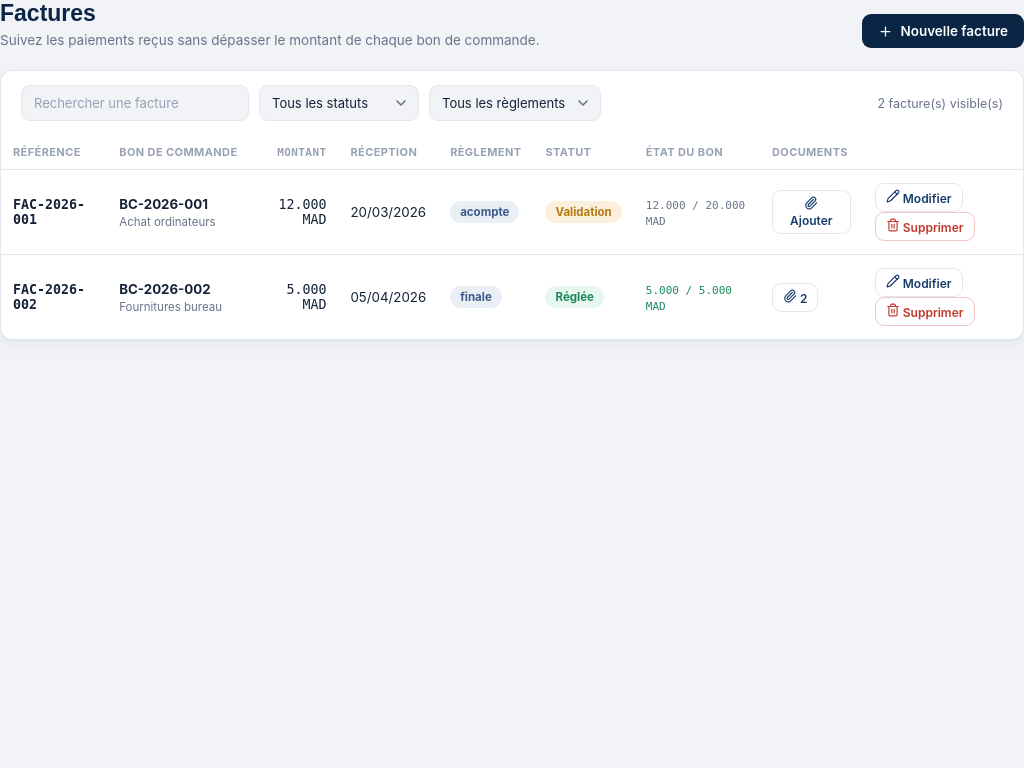
it: Factures › affiche l'erreur de validation (422) sur le champ bon de commande
Check: the text "FAC-2026-001" is shown, box [13,197,85,227]
Click the button "Nouvelle facture" at point(943, 31), box [862,14,1023,48]
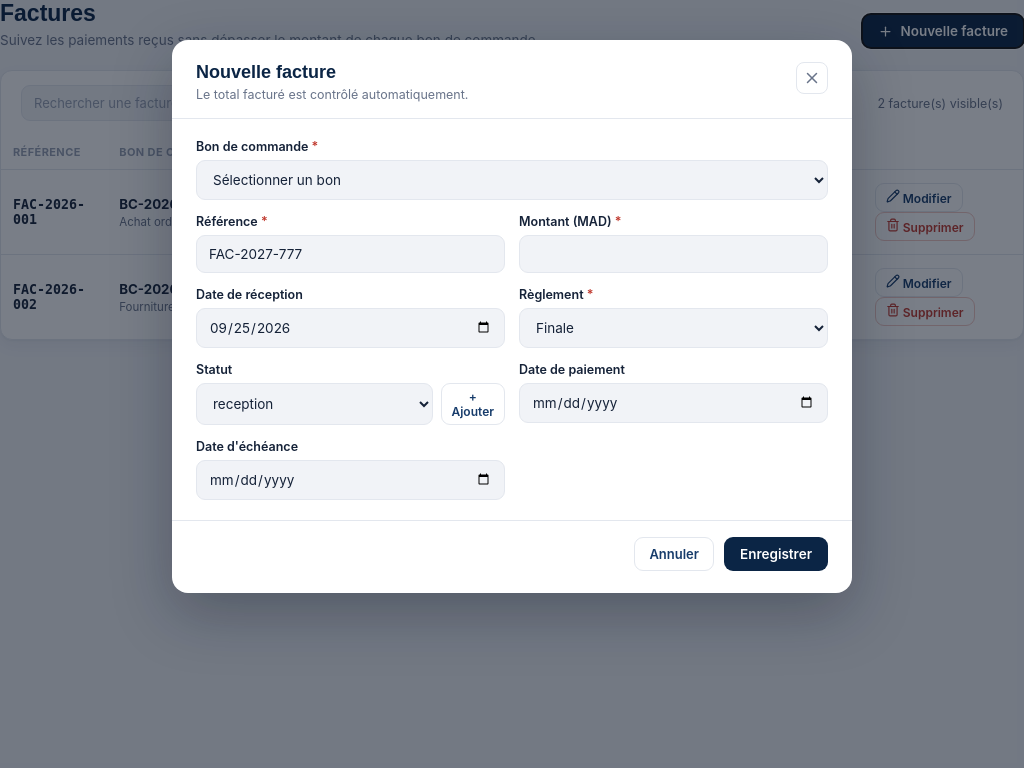
Select "BC-2026-001 — Achat ordinateurs" in the 1st dropdown at point(512, 180), box [196,160,828,200]
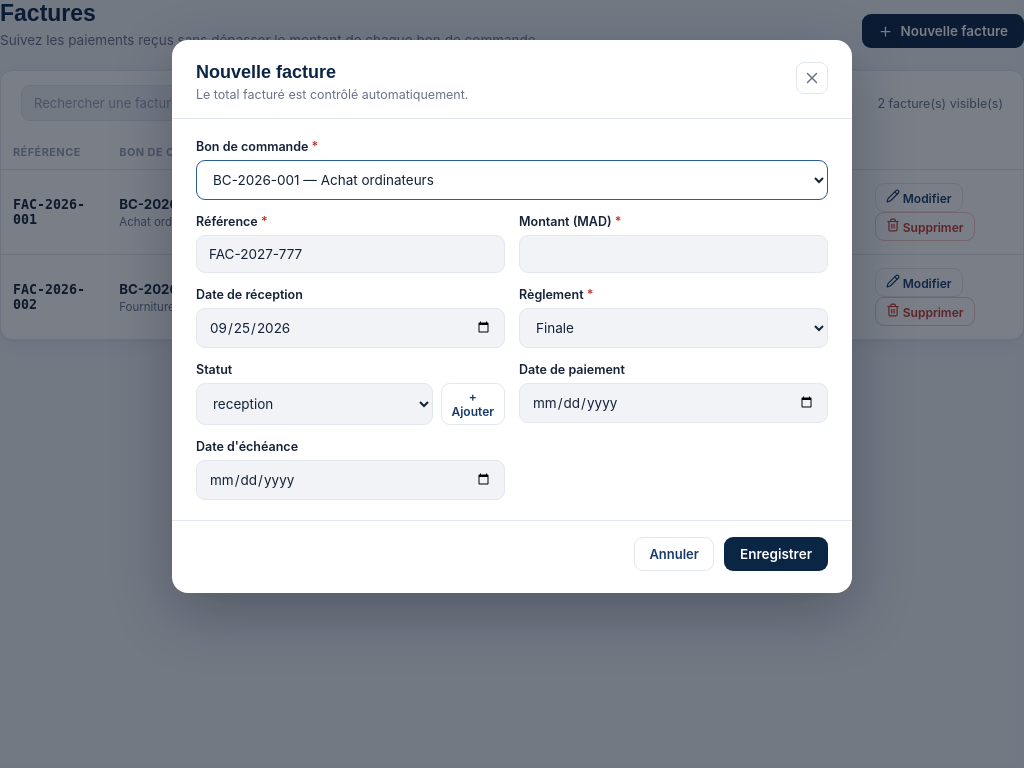
Type "999999" into the number field at point(674, 254), box [519,235,828,273]
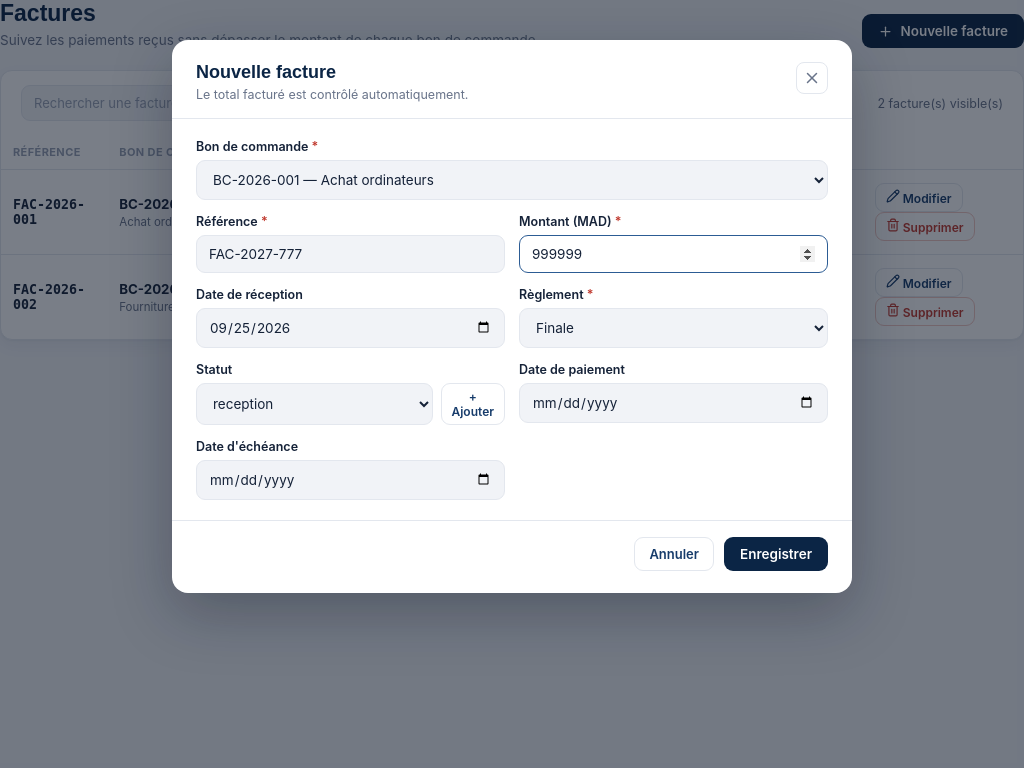
Click the button "Enregistrer" at point(776, 554), box [724,537,828,571]
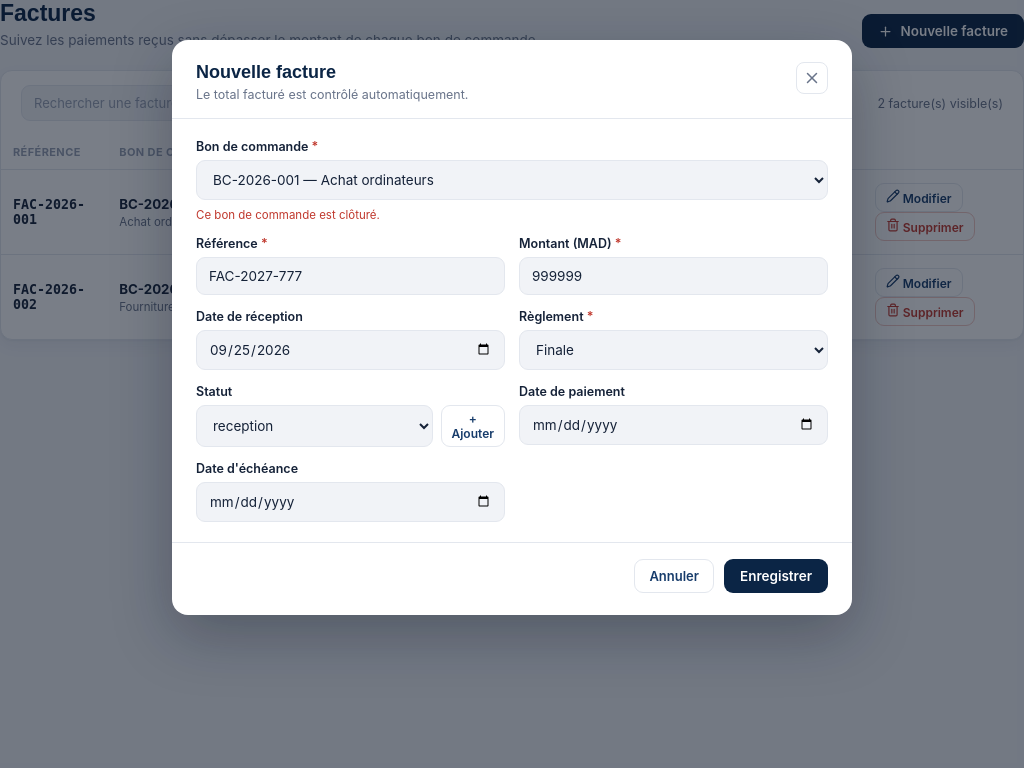
Check: the dialog is shown, box [172,40,852,615]
Check: the text "Ce bon de commande est clôturé." is shown, box [196,208,380,222]
